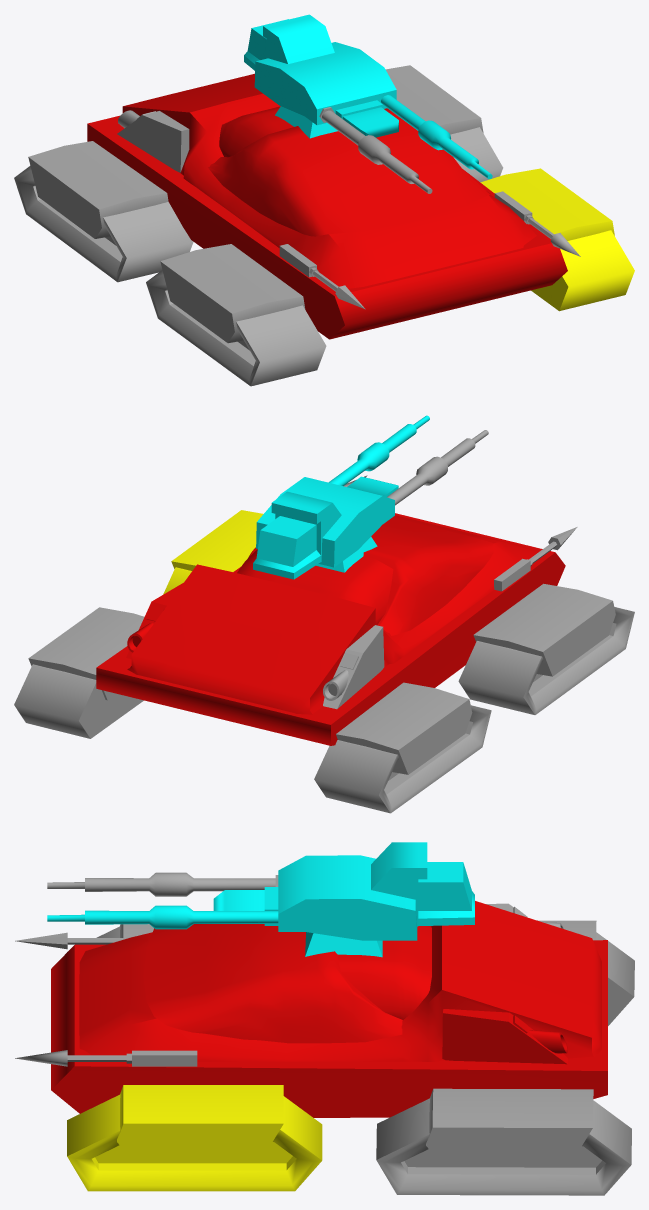
File: Tank.fbx
3 views of the same model, one above another, from view 1: azimuth 30°, elevation 25°; view 2: azimuth 150°, elevation 25°; view 3: azimuth 270°, elevation 25° (orthographic). The views are drawn at different scales.
Visible parts, largest first — view 1: pCube5 (×4), pCube4 (×4), pPlane1, pPlane2, pCube1, pCube8, pCube9, pCube2, pPlane3, Mitraglia, pCylinder5, Cannone (+2 smaller); view 2: pPlane1, pCube5 (×4), pCube4 (×3), pCube1, pPlane2, pCube9, pCube8, pPlane3, pCube2, pCylinder5, Mitraglia, pCube6 (+1 smaller); view 3: pPlane1, pCube4 (×3), pCube5 (×3), pCube1, pPlane2, pCube8, pCube9, pPlane3, pCube2, Mitraglia, pCylinder5, pCube7 (+3 smaller).
Boxes of the visible parts, x1,y1,x2,y2 form: pCube5 (×4): (28, 65, 614, 343); pCube4 (×4): (14, 127, 634, 386); pPlane1: (122, 73, 536, 288); pPlane2: (208, 108, 490, 236); pCube1: (87, 115, 567, 339); pCube8: (254, 42, 396, 125); pCube9: (244, 14, 334, 70); pCube2: (117, 111, 189, 172); pPlane3: (219, 106, 293, 157); Mitraglia: (381, 95, 492, 179); pCylinder5: (322, 110, 432, 193); Cannone: (342, 107, 398, 137); pPlane1: (127, 515, 537, 714); pCube5 (×4): (28, 510, 615, 774); pCube4 (×3): (14, 607, 634, 813); pCube1: (96, 513, 565, 745); pPlane2: (248, 517, 493, 635); pCube9: (253, 491, 341, 579); pCube8: (256, 477, 394, 567); pPlane3: (237, 549, 393, 624); pCube2: (323, 625, 384, 709); pCylinder5: (387, 430, 488, 505); Mitraglia: (328, 415, 429, 485); pCube6: (494, 558, 530, 591); pPlane1: (79, 901, 601, 1061); pCube4 (×3): (67, 932, 634, 1195); pCube5 (×3): (117, 920, 596, 1164); pCube1: (51, 940, 607, 1117); pPlane2: (143, 924, 402, 1043); pCube8: (278, 855, 417, 940); pCube9: (371, 842, 474, 926); pPlane3: (337, 926, 431, 1019); pCube2: (442, 1009, 567, 1064); Mitraglia: (47, 905, 278, 929); pCylinder5: (47, 872, 275, 896); pCube7: (305, 932, 382, 957).
Bounding box in the file's own units: 8.31 × 4.28 × 10.3.
